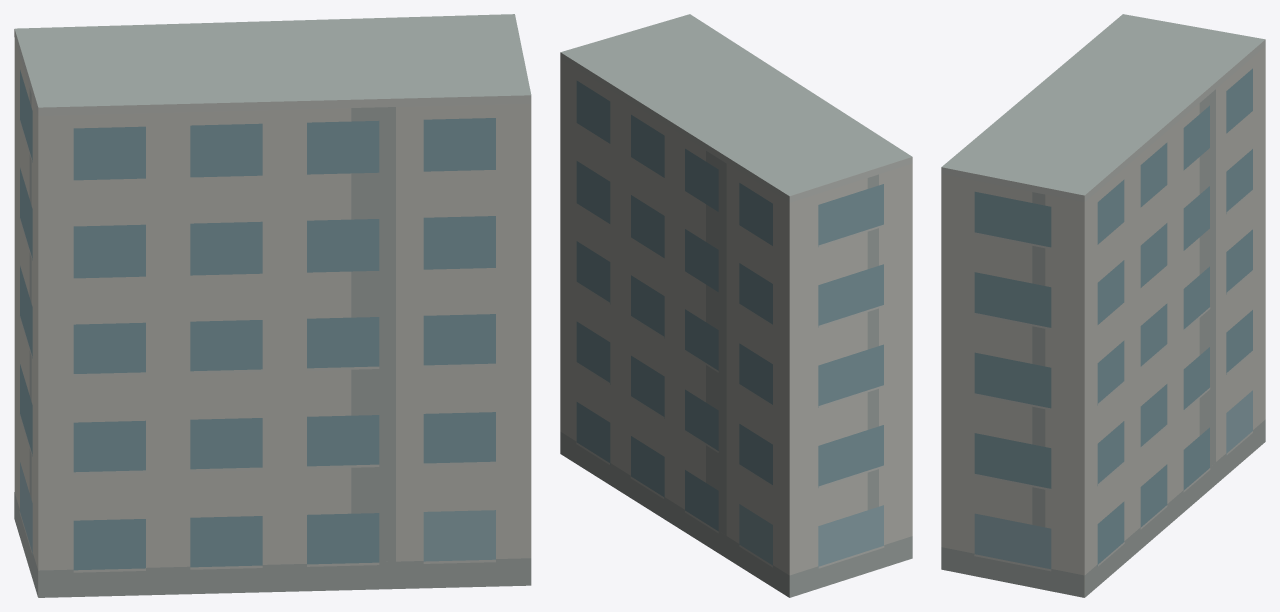
File: survey-upis-32724579.glb
3 views of the same model, side by side, from view 1: azimuth 30°, elevation 25°; view 2: azimuth 150°, elevation 25°; view 3: azimuth 270°, elevation 25° (orthographic). The views are drawn at different scales.
Parts seen in each view (by area): view 1: survey-upis-32724579.tmp; view 2: survey-upis-32724579.tmp; view 3: survey-upis-32724579.tmp.
Part boxes in pixels (x1,y1,x2,y2): survey-upis-32724579.tmp: (14,14,531,597); survey-upis-32724579.tmp: (560,14,912,597); survey-upis-32724579.tmp: (941,14,1265,597).
Size of the model in its own units: 13.94 by 14.4 by 10.53.
